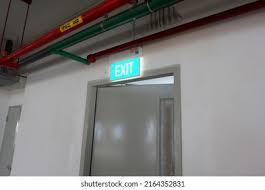exit: (91, 65, 180, 175)
lit_exit_sign: (111, 56, 140, 80)
